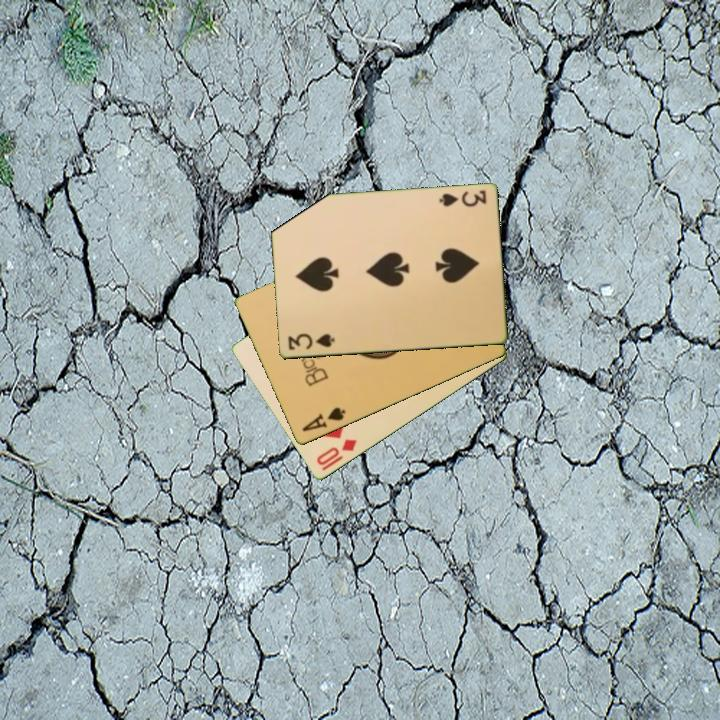10d: (313, 436, 360, 474)
3s: (435, 187, 489, 210), (284, 331, 337, 353)
As: (298, 404, 349, 435)
